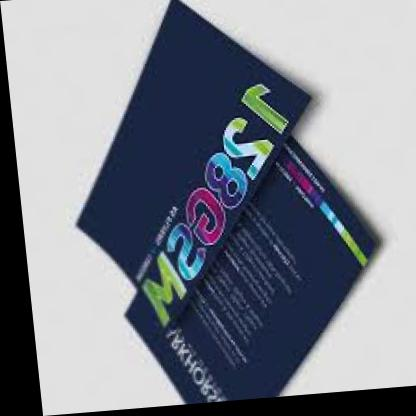Paper: (10, 0, 416, 415)
